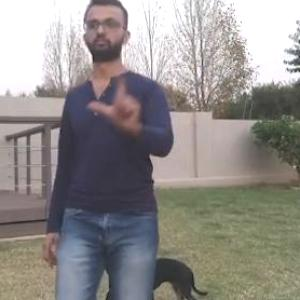land_hand: (87, 62, 146, 128)
